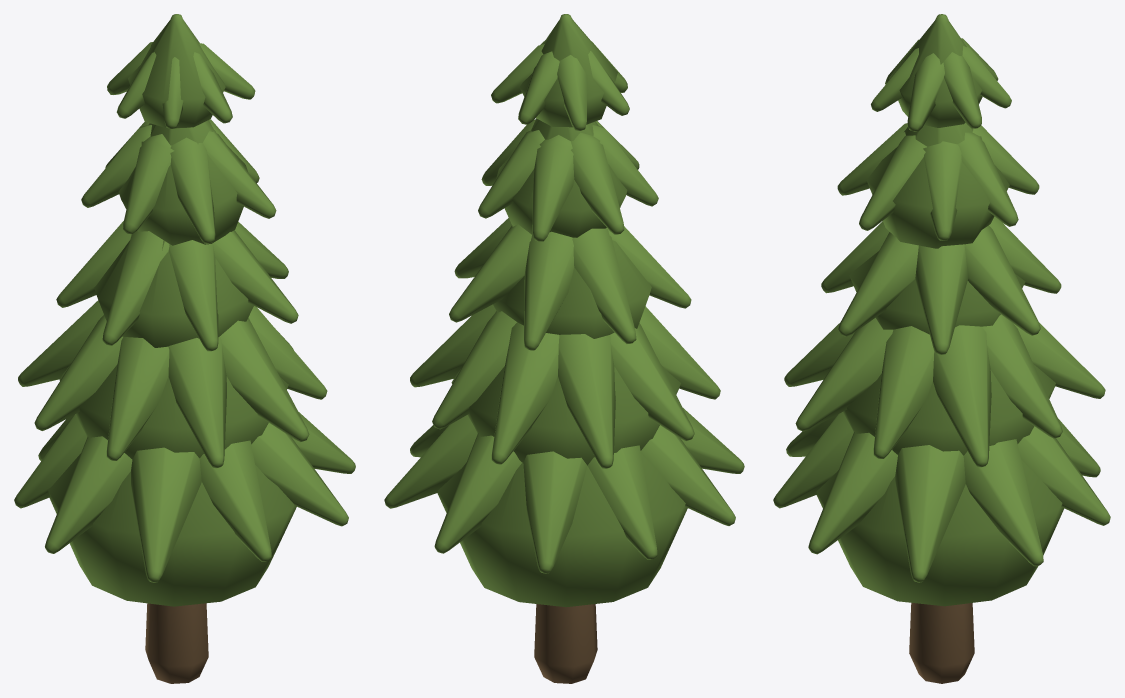
File: prop_pine5_9e62.glb
3 views of the same model, side by side, from view 1: azimuth 30°, elevation 25°; view 2: azimuth 150°, elevation 25°; view 3: azimuth 270°, elevation 25° (orthographic).
Visible parts, largest first — view 1: prop_pine5_9e62; view 2: prop_pine5_9e62; view 3: prop_pine5_9e62.
Part boxes in pixels (left/top/right/bottom): prop_pine5_9e62: left=14, top=14, right=355, bottom=683; prop_pine5_9e62: left=384, top=14, right=744, bottom=683; prop_pine5_9e62: left=773, top=14, right=1110, bottom=683.
Bounding box in the file's own units: 1.38 × 2.78 × 1.27.
1 material, 1 textured.
